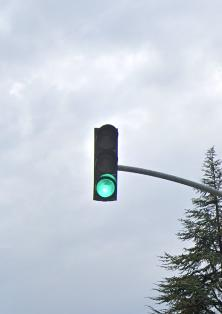greenlight: (92, 124, 118, 203)
